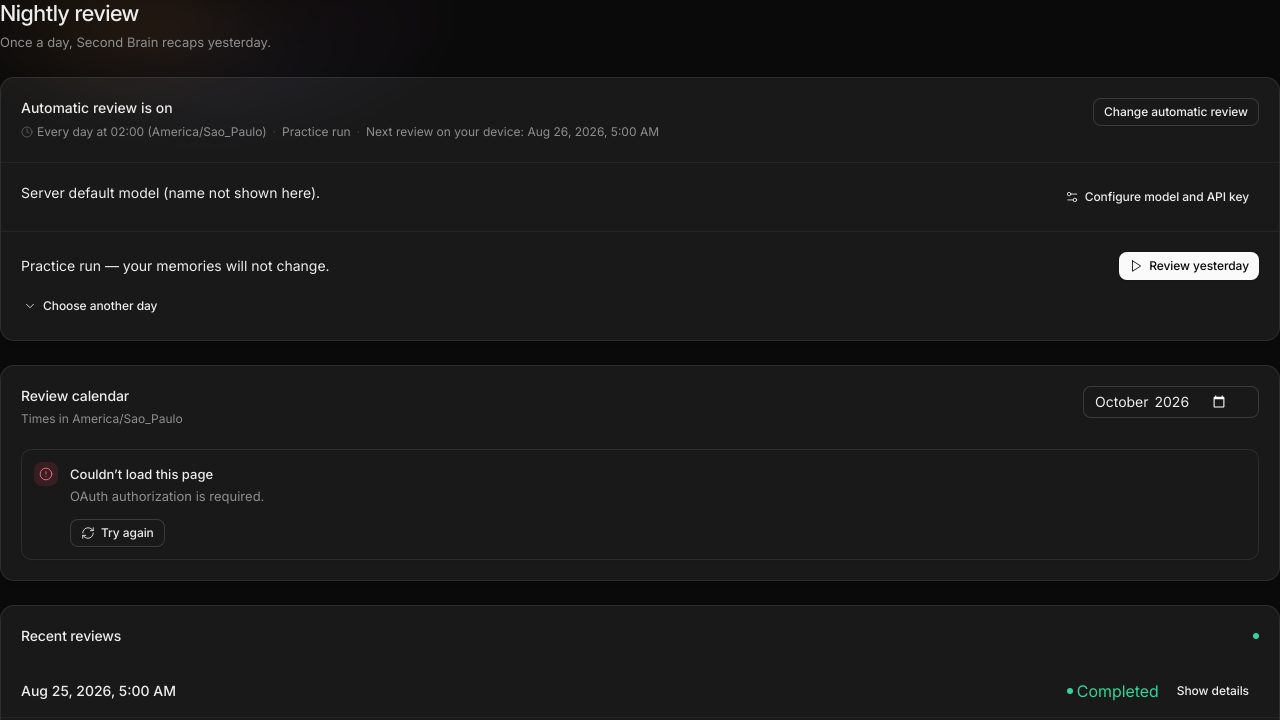
Test: DreamingPage › reports the existing pending review as active
Click the button "Review yesterday". click: (1189, 266)
box: top-left (1119, 252), bottom-right (1259, 280)
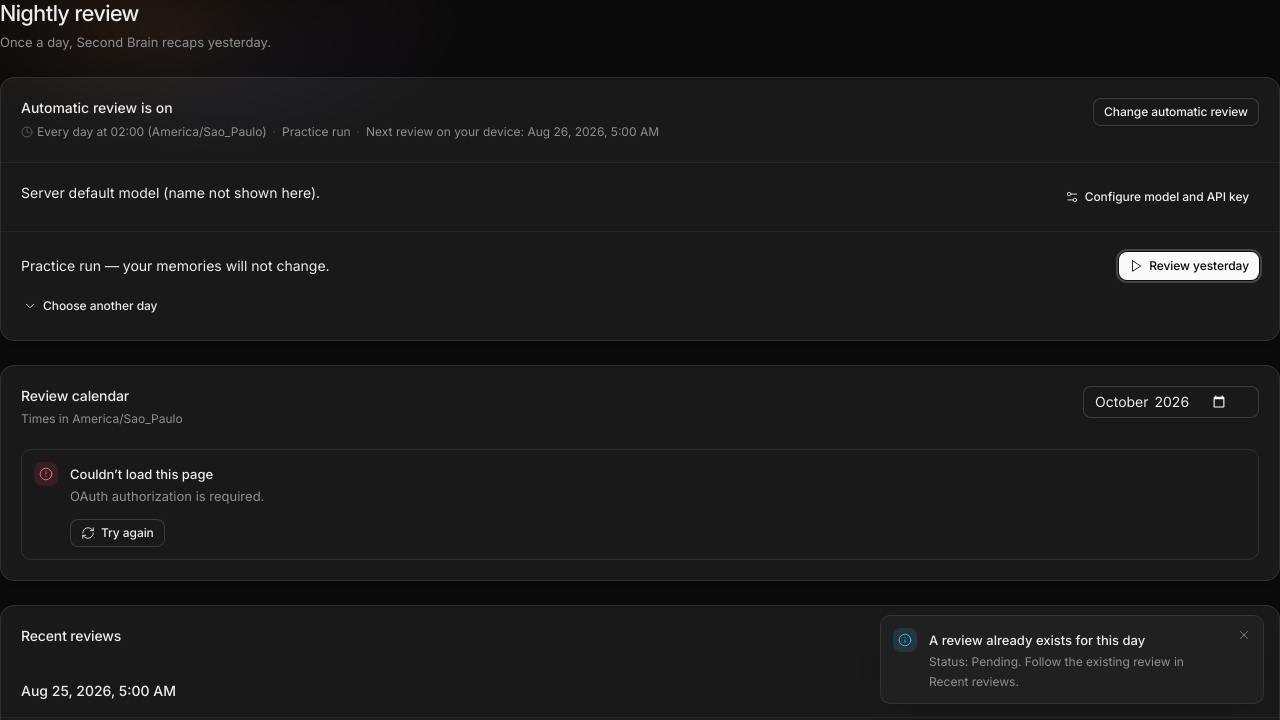
Expected: the text "Follow the existing review in Recent reviews" is shown, top-left (929, 654), bottom-right (1184, 688)
